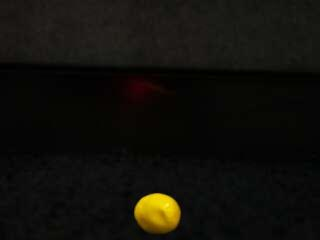Lemon: (133, 193, 181, 235)
